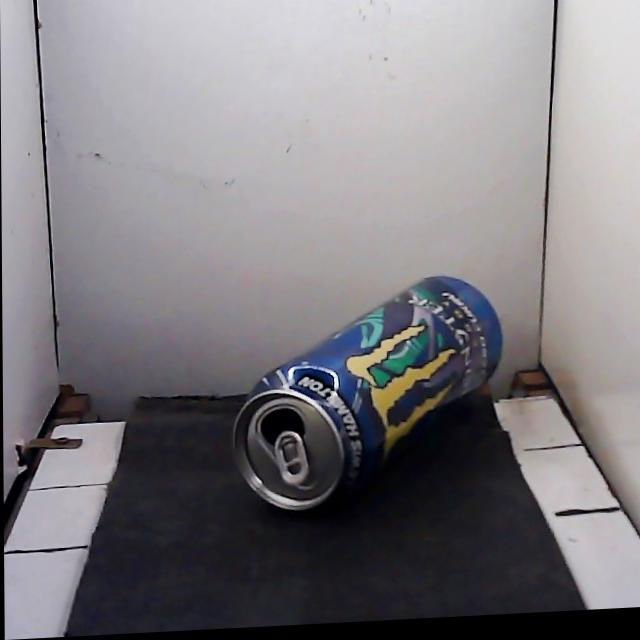metal: (234, 276, 501, 510)
